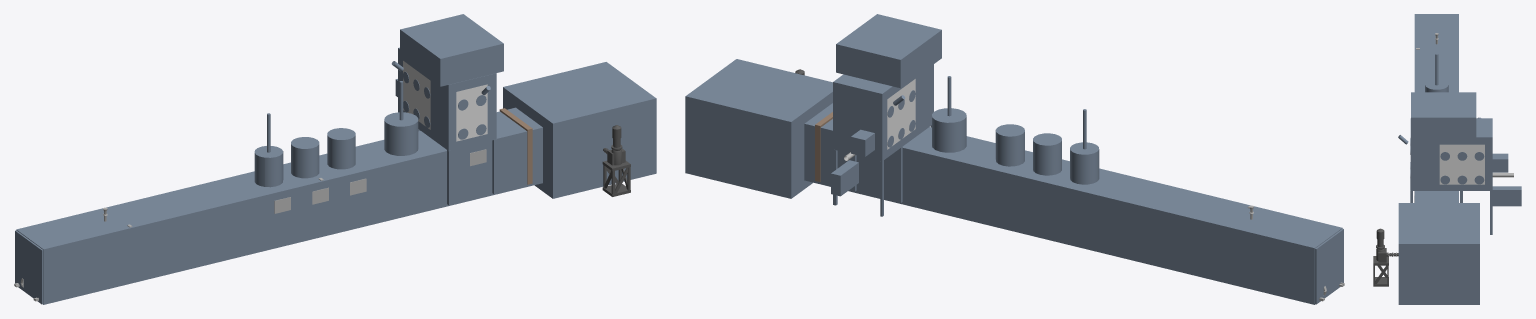
File: PowderStorageExtrudeVerticalSampling.fbx
3 views of the same model, side by side, from view 1: azimuth 30°, elevation 25°; view 2: azimuth 150°, elevation 25°; view 3: azimuth 270°, elevation 25° (orthographic). The views are drawn at different scales.
Parts seen in each view (by area): view 1: Tunnel, SamplingUnitCor, Door; view 2: Tunnel, SamplingUnitCor, Door; view 3: Tunnel, SamplingUnitCor, Grabber_01.
Part boxes in pixels (box(x1,y1,x2,y2)): Tunnel: box(14, 62, 656, 304); SamplingUnitCor: box(391, 14, 503, 205); Door: box(499, 108, 532, 184); Tunnel: box(685, 59, 1344, 304); SamplingUnitCor: box(831, 14, 941, 216); Door: box(815, 112, 832, 181); Tunnel: box(1373, 14, 1479, 304); SamplingUnitCor: box(1398, 92, 1521, 234); Grabber_01: box(1435, 53, 1438, 85).
Size of the model in its own units: 1508 by 380 by 393.
